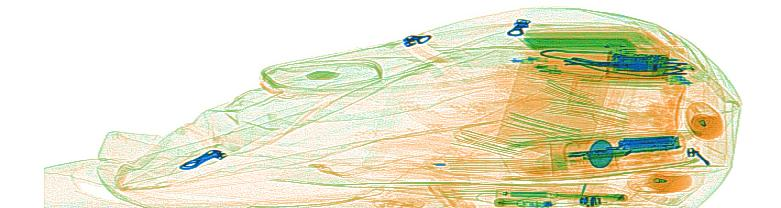battery: (617, 134, 682, 154)
plasticBottleWithaNozzle: (626, 165, 693, 194), (685, 100, 725, 140)
